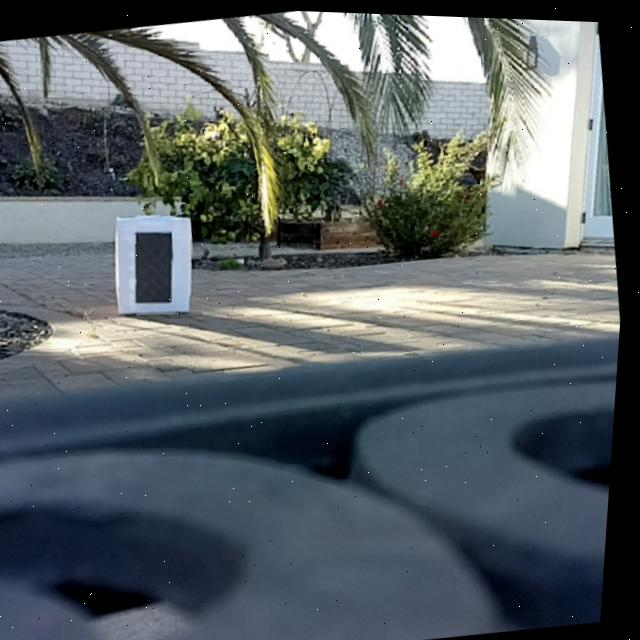led: (131, 226, 184, 304)
